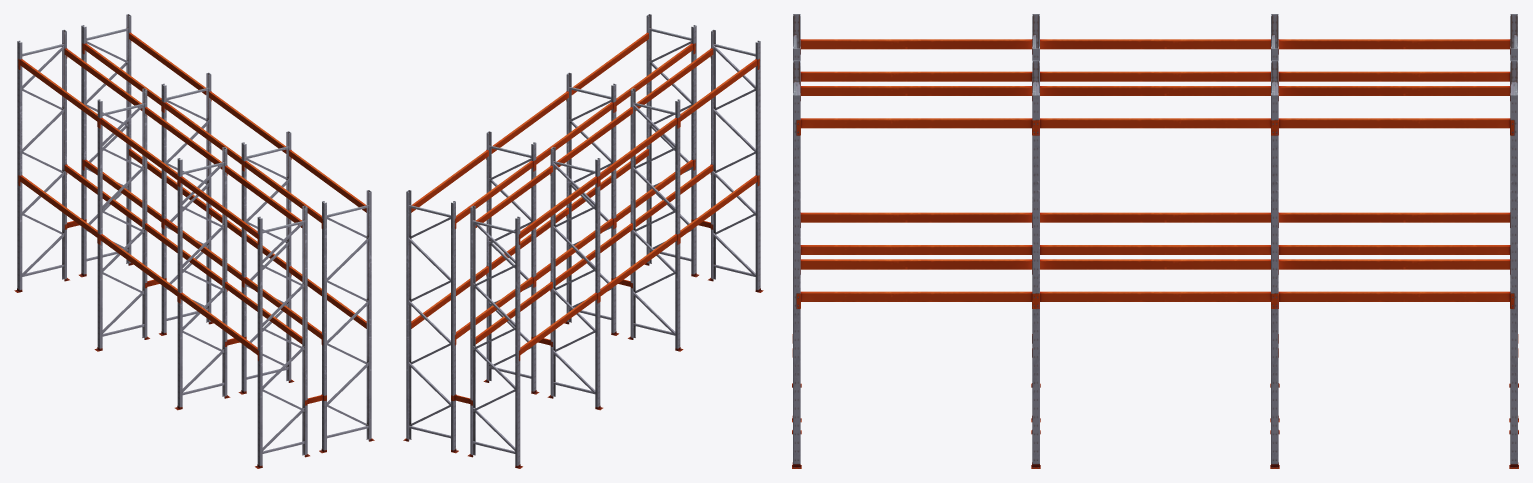
Rendered from WarehouseShelves01_1.FBX.
3 views of the same model, side by side, from view 1: azimuth 30°, elevation 25°; view 2: azimuth 150°, elevation 25°; view 3: azimuth 270°, elevation 25° (orthographic). The views are drawn at different scales.
Parts seen in each view (by area): view 1: WarehouseShelves01_1; view 2: WarehouseShelves01_1; view 3: WarehouseShelves01_1.
Part boxes in pixels (left/top/right/bottom): WarehouseShelves01_1: left=14, top=14, right=374, bottom=468; WarehouseShelves01_1: left=403, top=14, right=763, bottom=468; WarehouseShelves01_1: left=792, top=14, right=1518, bottom=468.
Size of what is drawn, in the model's own units: 2.1 by 4.29 by 7.6.
